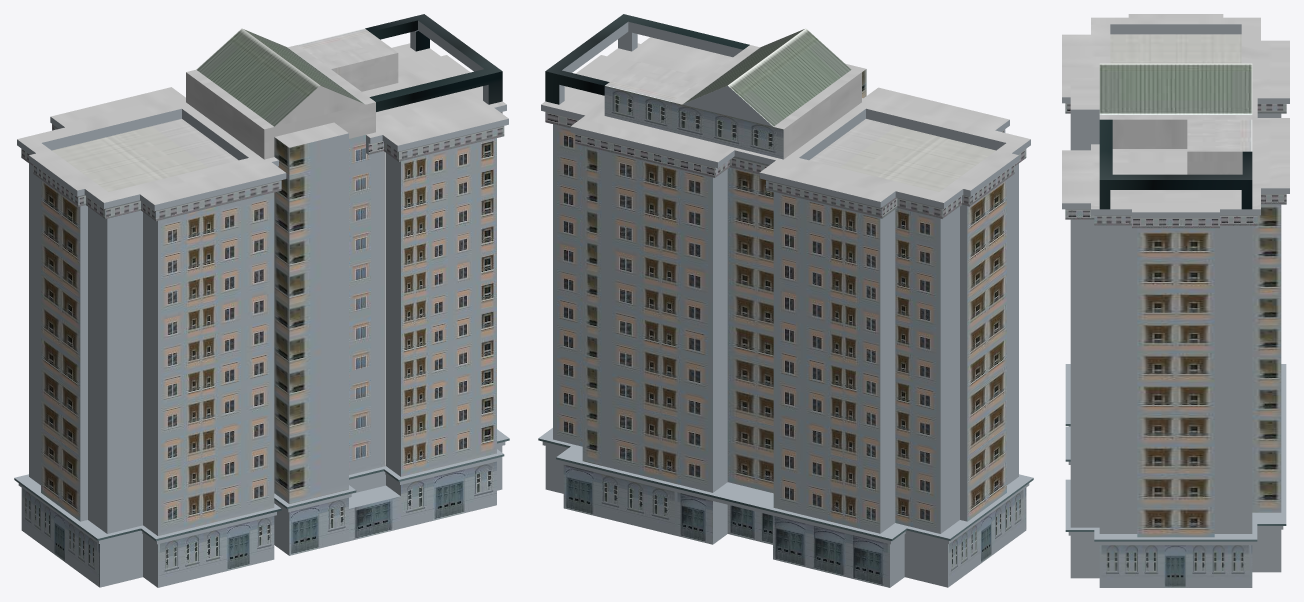
3 views of the same model, side by side, from view 1: azimuth 30°, elevation 25°; view 2: azimuth 150°, elevation 25°; view 3: azimuth 270°, elevation 25° (orthographic). The views are drawn at different scales.
Visible parts, largest first — view 1: HN505___A6D_Nam_Trung_Yen; view 2: HN505___A6D_Nam_Trung_Yen; view 3: HN505___A6D_Nam_Trung_Yen.
Part boxes in pixels (box(x1,y1,x2,y2)): HN505___A6D_Nam_Trung_Yen: box(14, 14, 509, 587); HN505___A6D_Nam_Trung_Yen: box(538, 14, 1033, 587); HN505___A6D_Nam_Trung_Yen: box(1062, 14, 1289, 587).
Size of the model in its own units: 43.35 by 44.61 by 21.06.
Materials: 1 (1 with a texture image).
